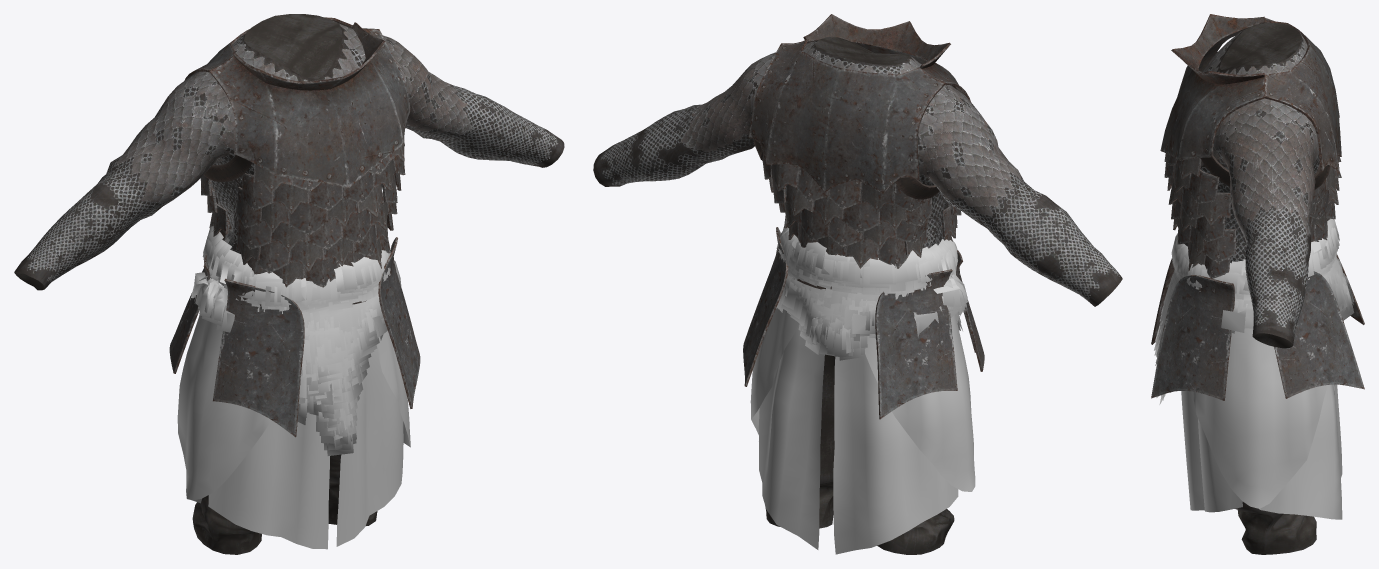
File: sk_gb_uruk_chest_elite_f.fbx
3 views of the same model, side by side, from view 1: azimuth 30°, elevation 25°; view 2: azimuth 150°, elevation 25°; view 3: azimuth 270°, elevation 25° (orthographic). The views are drawn at different scales.
Parts seen in each view (by area): view 1: sk_gb_uruk_chest_elite_f.base.0, sk_gb_uruk_chest_elite_f.base.3, sk_gb_uruk_chest_elite_f.skirt.1, sk_gb_uruk_chest_elite_f.skirt.2, sk_gb_uruk_chest_elite_f.base.1, sk_gb_uruk_chest_elite_f.base.2; view 2: sk_gb_uruk_chest_elite_f.base.0, sk_gb_uruk_chest_elite_f.base.3, sk_gb_uruk_chest_elite_f.skirt.1, sk_gb_uruk_chest_elite_f.skirt.2, sk_gb_uruk_chest_elite_f.base.1, sk_gb_uruk_chest_elite_f.base.2; view 3: sk_gb_uruk_chest_elite_f.base.0, sk_gb_uruk_chest_elite_f.skirt.1, sk_gb_uruk_chest_elite_f.base.3, sk_gb_uruk_chest_elite_f.base.1, sk_gb_uruk_chest_elite_f.skirt.2, sk_gb_uruk_chest_elite_f.base.2.
Part boxes in pixels (x1=…): sk_gb_uruk_chest_elite_f.base.0: x1=14, y1=14, x2=564, y2=554; sk_gb_uruk_chest_elite_f.base.3: x1=184, y1=17, x2=410, y2=287; sk_gb_uruk_chest_elite_f.skirt.1: x1=177, y1=315, x2=410, y2=549; sk_gb_uruk_chest_elite_f.skirt.2: x1=190, y1=220, x2=401, y2=455; sk_gb_uruk_chest_elite_f.base.1: x1=169, y1=237, x2=420, y2=437; sk_gb_uruk_chest_elite_f.base.2: x1=204, y1=155, x2=252, y2=181; sk_gb_uruk_chest_elite_f.base.0: x1=593, y1=37, x2=1122, y2=554; sk_gb_uruk_chest_elite_f.base.3: x1=748, y1=14, x2=970, y2=268; sk_gb_uruk_chest_elite_f.skirt.1: x1=750, y1=308, x2=975, y2=554; sk_gb_uruk_chest_elite_f.skirt.2: x1=776, y1=226, x2=967, y2=360; sk_gb_uruk_chest_elite_f.base.1: x1=743, y1=227, x2=984, y2=419; sk_gb_uruk_chest_elite_f.base.2: x1=753, y1=139, x2=939, y2=199; sk_gb_uruk_chest_elite_f.base.0: x1=1200, y1=22, x2=1319, y2=554; sk_gb_uruk_chest_elite_f.skirt.1: x1=1181, y1=328, x2=1342, y2=519; sk_gb_uruk_chest_elite_f.base.3: x1=1160, y1=14, x2=1341, y2=278; sk_gb_uruk_chest_elite_f.base.1: x1=1151, y1=254, x2=1364, y2=400; sk_gb_uruk_chest_elite_f.skirt.2: x1=1154, y1=218, x2=1354, y2=404; sk_gb_uruk_chest_elite_f.base.2: x1=1200, y1=156, x2=1330, y2=189.
Bounding box in the file's own units: 1.35 × 0.4836 × 1.2.
